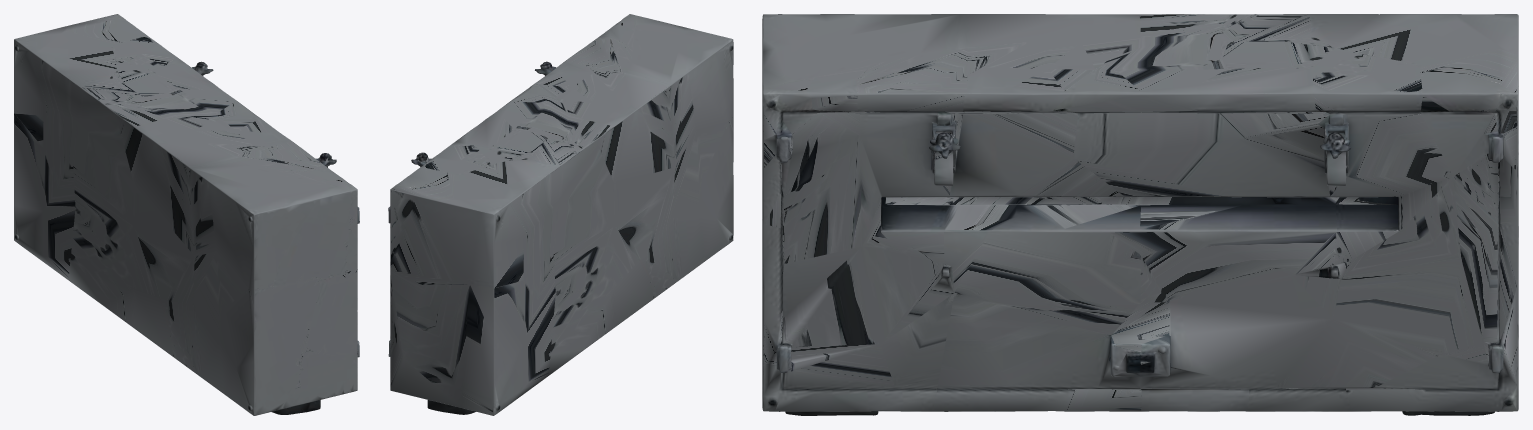
The model's file is gov_console.glb.
3 renders of one model, left to right at view 1: azimuth 30°, elevation 25°; view 2: azimuth 150°, elevation 25°; view 3: azimuth 270°, elevation 25°, orthographic. The views are drawn at different scales.
Parts seen in each view (by area): view 1: tripo_node_bc89730b-7fc6-4c5e-ab26-7c5a6116dd4e; view 2: tripo_node_bc89730b-7fc6-4c5e-ab26-7c5a6116dd4e; view 3: tripo_node_bc89730b-7fc6-4c5e-ab26-7c5a6116dd4e.
Part boxes in pixels (x1,y1,x2,y2): tripo_node_bc89730b-7fc6-4c5e-ab26-7c5a6116dd4e: (14, 14, 359, 415); tripo_node_bc89730b-7fc6-4c5e-ab26-7c5a6116dd4e: (388, 14, 733, 415); tripo_node_bc89730b-7fc6-4c5e-ab26-7c5a6116dd4e: (762, 14, 1518, 415).
Size of the model in its own units: 0.3429 by 0.5045 by 0.9999.
Materials: 1 (1 with a texture image).
